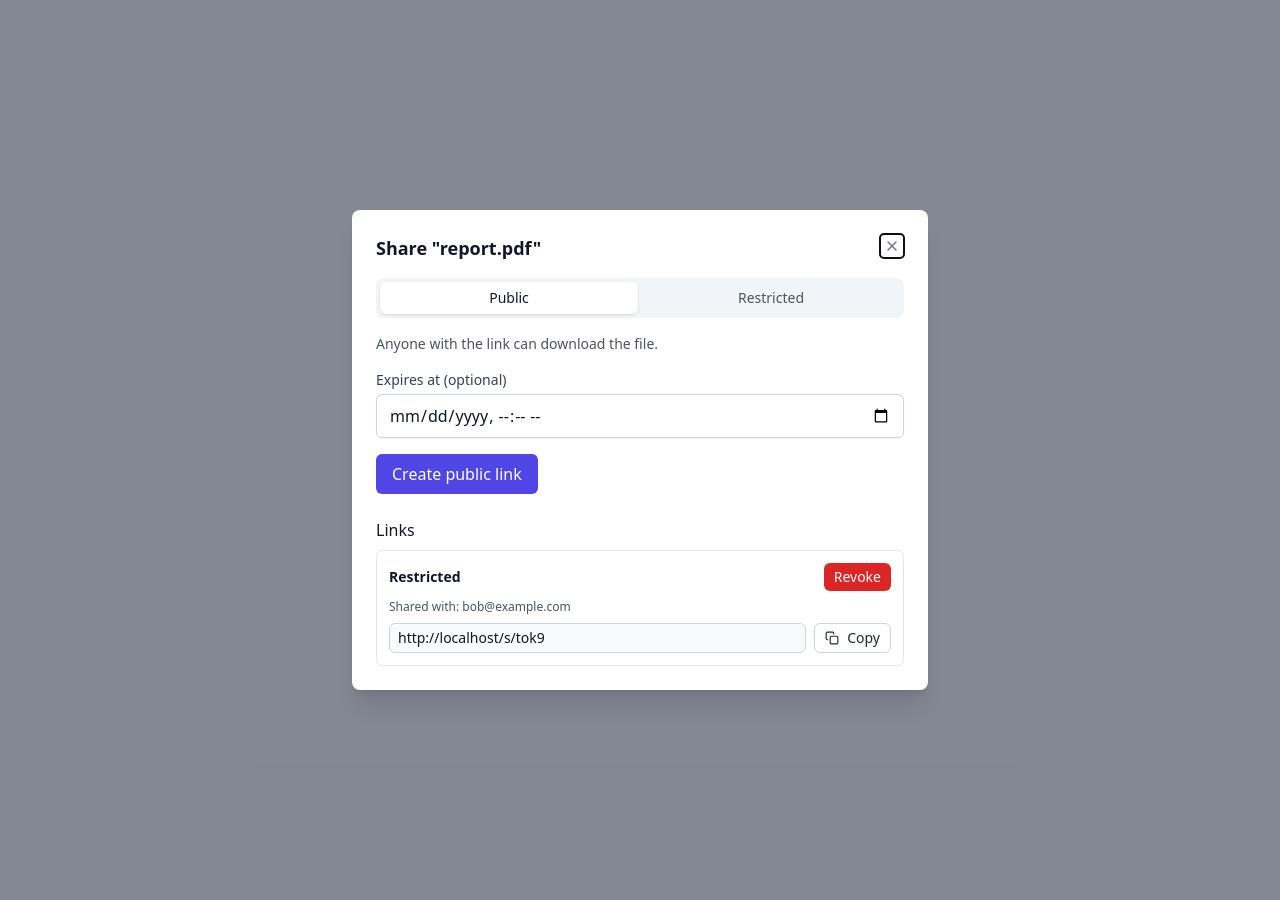
Test case: ShareDialog › revokes an existing link
Expected: the text "Shared with: bob@example.com" is shown, [389,598,571,615]
Click the button "Revoke" at (857, 577), box [824,563,891,591]
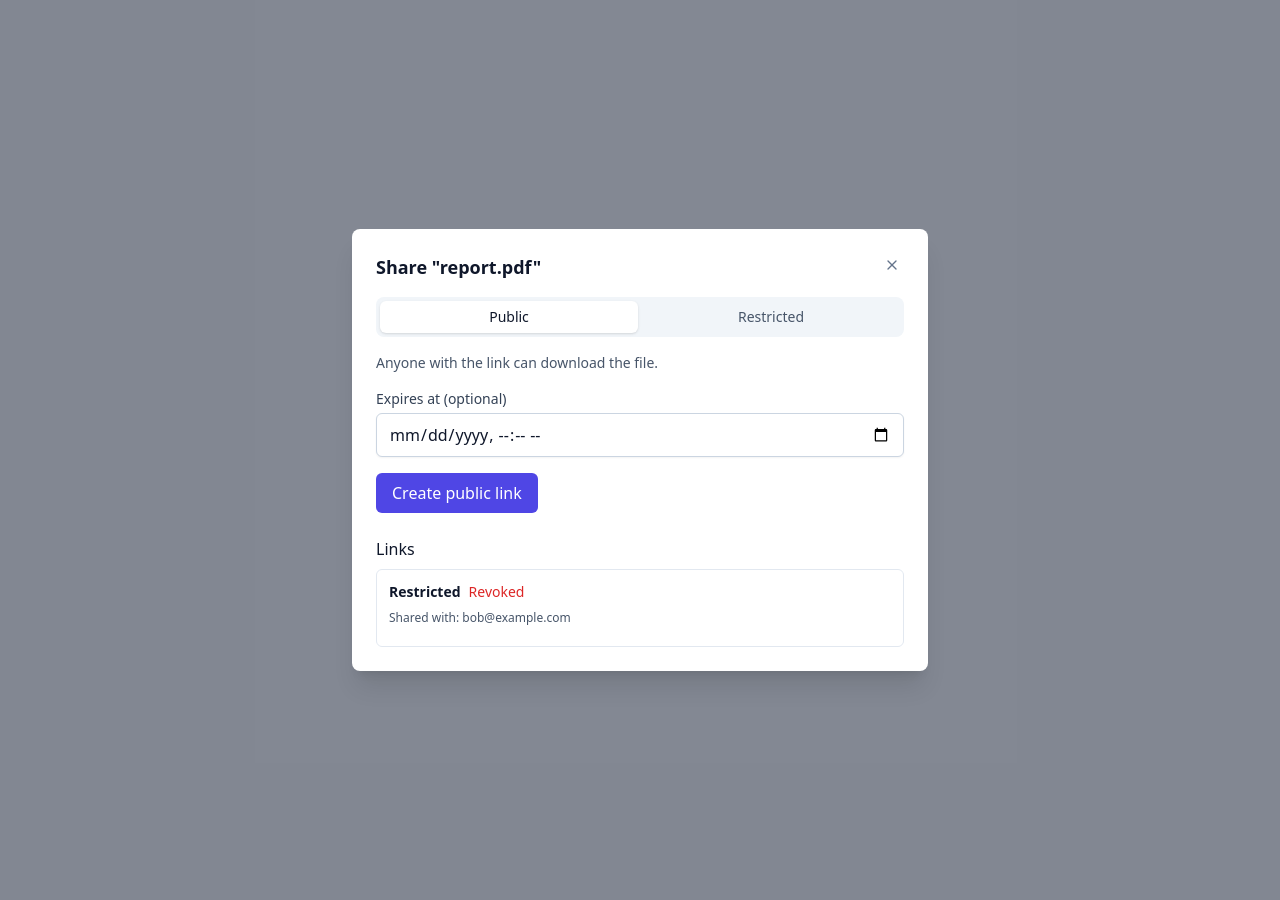
Expected: the text "Revoked" is shown, [469,582,524,601]
